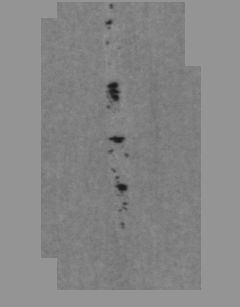oxl: (35, 10, 205, 297)
